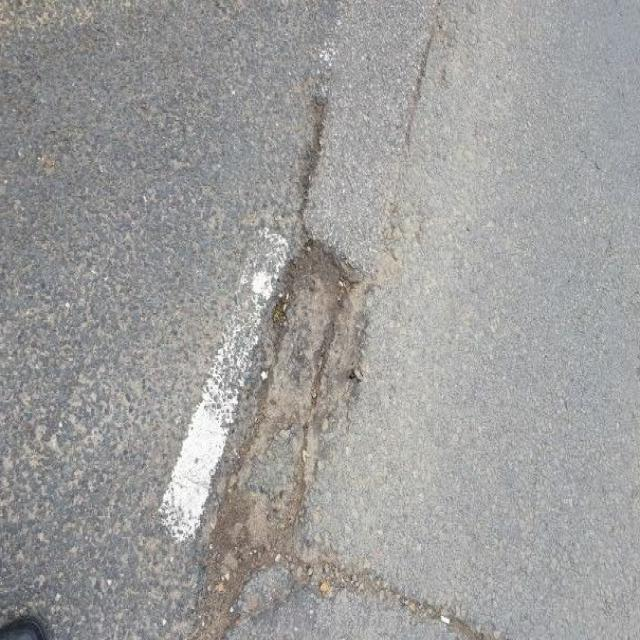pothole: (207, 227, 377, 554)
